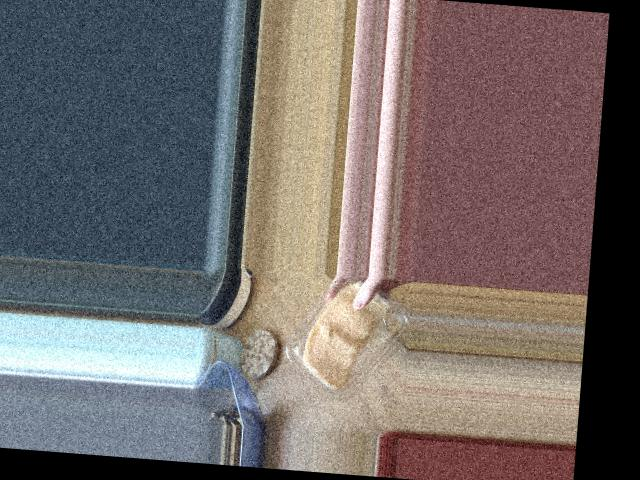cheese: (270, 280, 409, 418)
